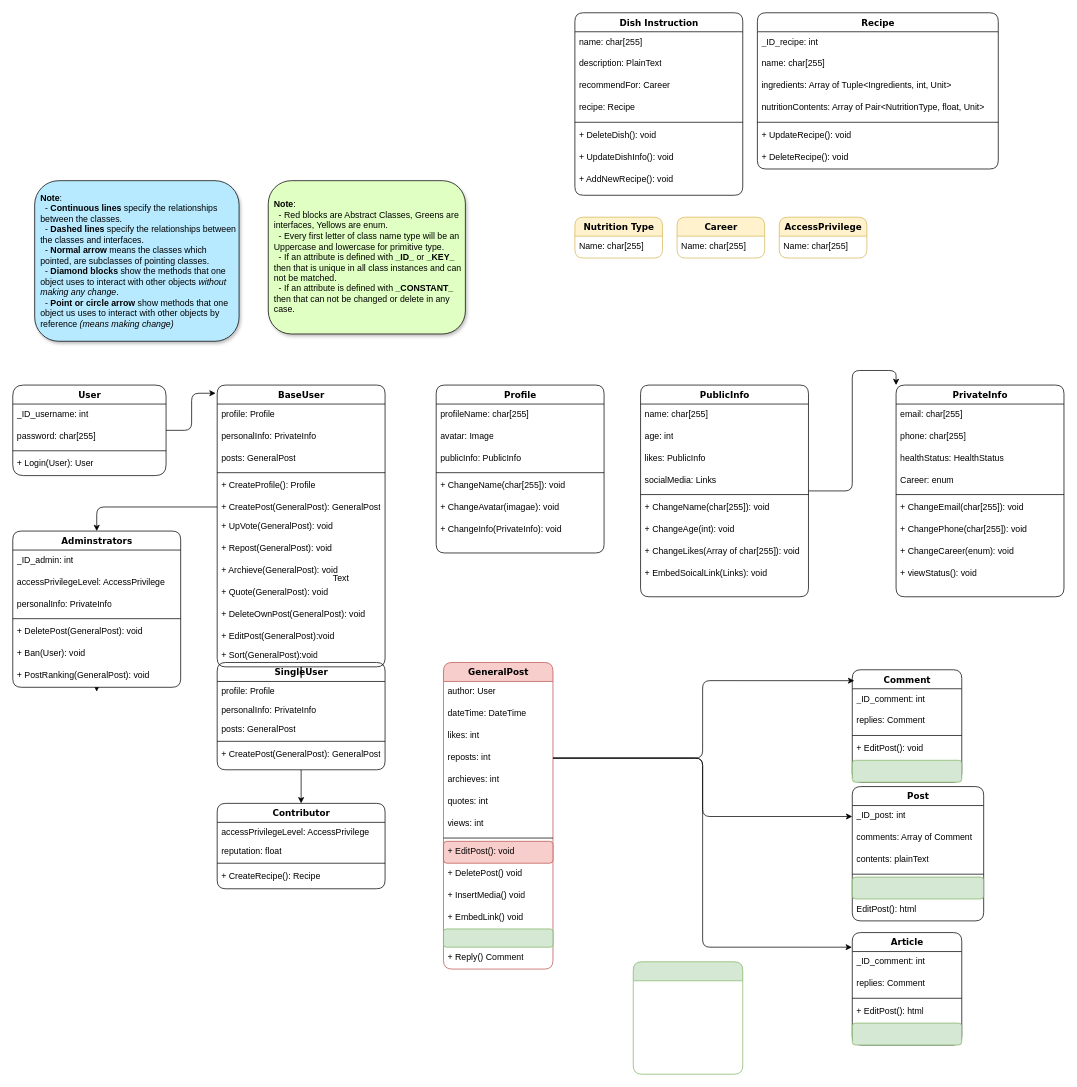
The diagram is 1077 pixels wide and 1087 high, and some of its shapes have lost their labels. The shapes that lost their labels are listed below. From the top down, each one's centre as x and y in pixels, then its label:
the point at 907,771: + DisplayCommet() hmtl
the point at 918,887: DisplayPost(): html
the point at 498,937: + Display() hmtl
the point at 688,1017: <IDisplay>
the point at 907,1033: + DisplayArticle(): html
